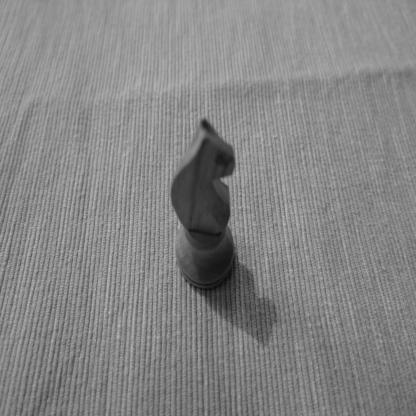white-knight: (169, 117, 236, 292)
